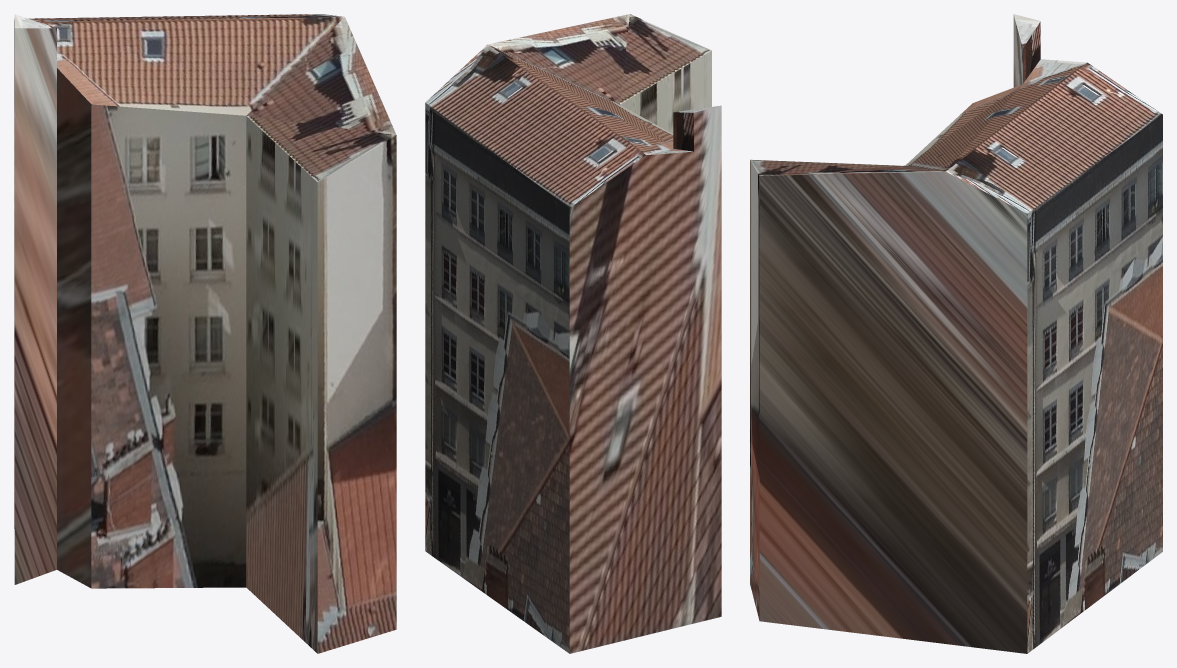
3 views of the same model, side by side, from view 1: azimuth 30°, elevation 25°; view 2: azimuth 150°, elevation 25°; view 3: azimuth 270°, elevation 25° (orthographic). The views are drawn at different scales.
Parts seen in each view (by area): view 1: Z_UP; view 2: Z_UP; view 3: Z_UP.
Part boxes in pixels (left/top/right/bottom): Z_UP: left=14, top=14, right=396, bottom=653; Z_UP: left=425, top=14, right=721, bottom=653; Z_UP: left=750, top=14, right=1162, bottom=653.
Bounding box in the file's own units: 13.8 × 23.28 × 17.37.
2 materials, 1 textured.
